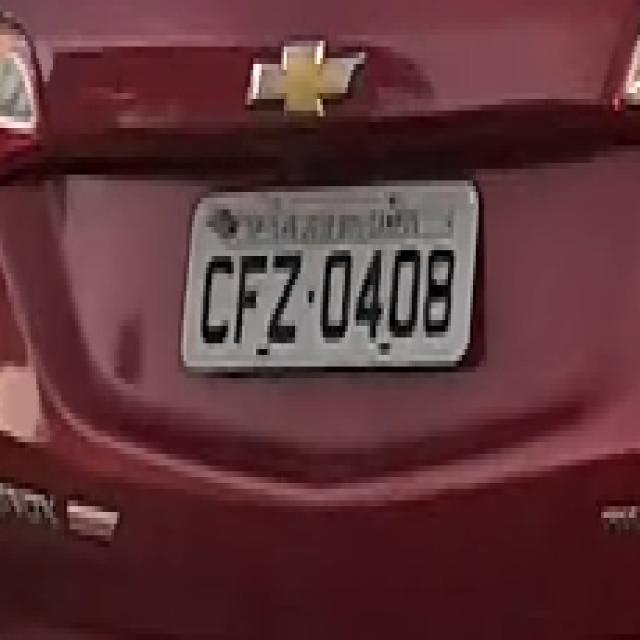Placa_mercosul_carro: (181, 182, 480, 373)
